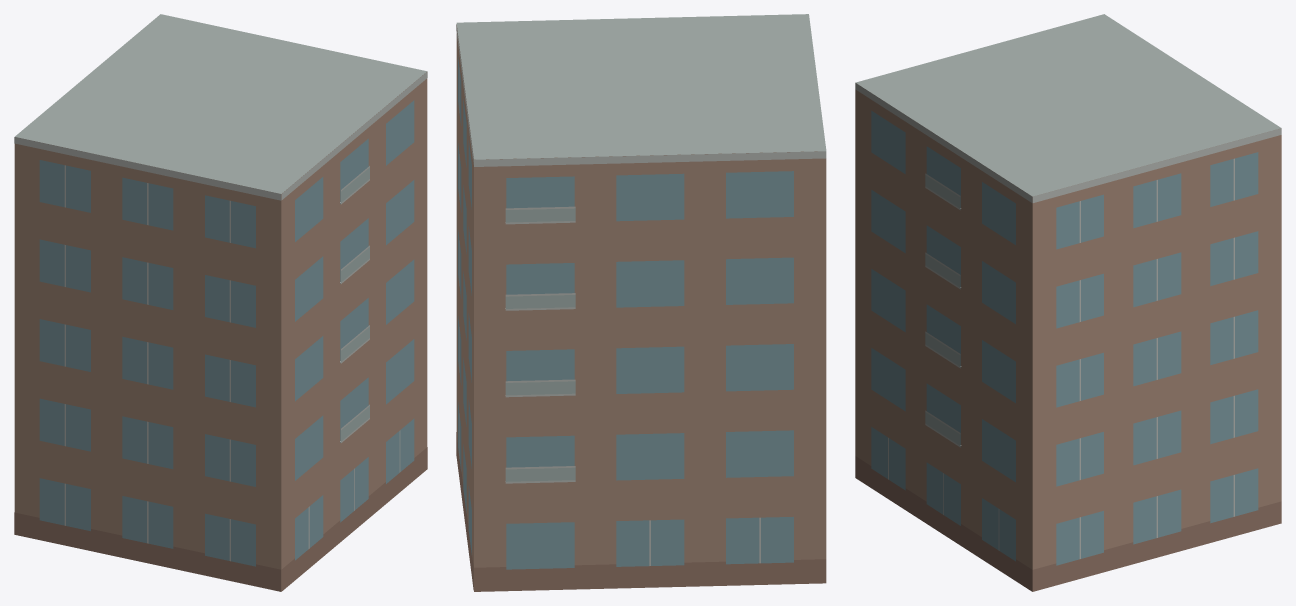
The model's file is survey-upis-32668409.glb.
3 renders of one model, left to right at view 1: azimuth 30°, elevation 25°; view 2: azimuth 150°, elevation 25°; view 3: azimuth 270°, elevation 25°, orthographic. The views are drawn at different scales.
Visible parts, largest first — view 1: survey-upis-32668409.tmp; view 2: survey-upis-32668409.tmp; view 3: survey-upis-32668409.tmp.
Boxes of the visible parts, left/top/right/bottom form: survey-upis-32668409.tmp: left=14, top=14, right=427, bottom=591; survey-upis-32668409.tmp: left=456, top=14, right=826, bottom=591; survey-upis-32668409.tmp: left=855, top=14, right=1281, bottom=591.
Bounding box in the file's own units: 14.28 × 14.4 × 14.09.
